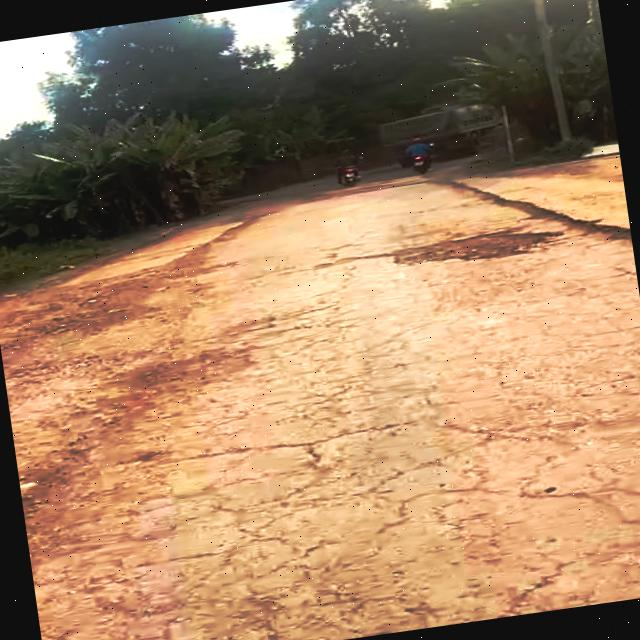pothole: (385, 222, 568, 278)
